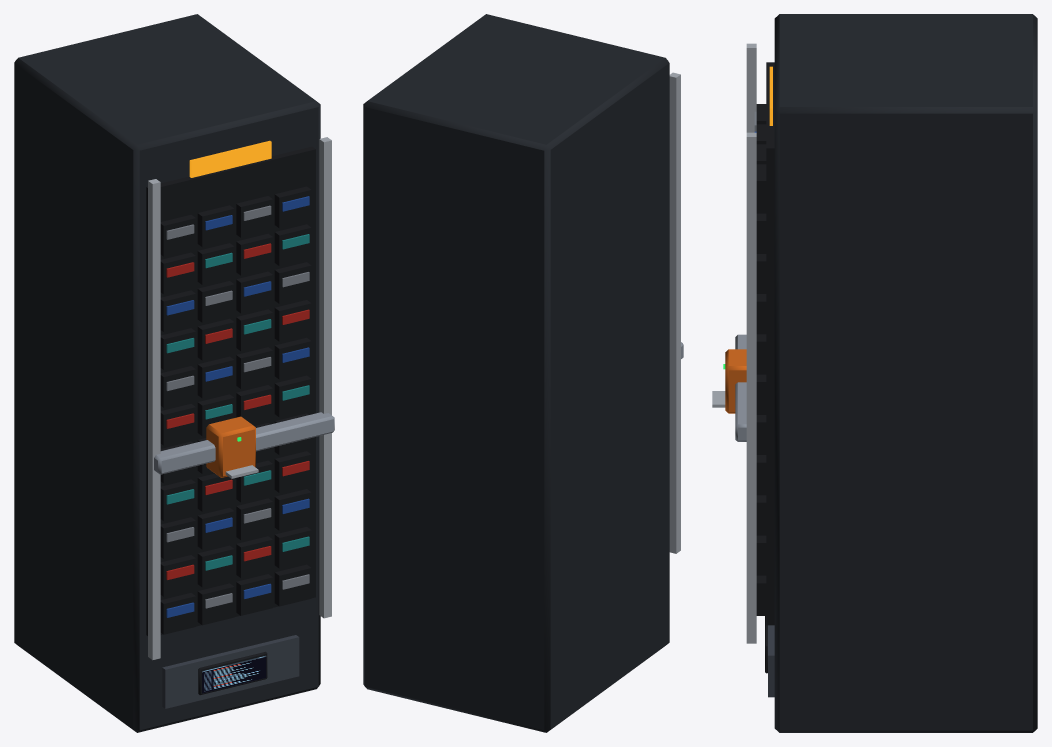
File: rack_tape_archive_tower.glb
3 views of the same model, side by side, from view 1: azimuth 30°, elevation 25°; view 2: azimuth 150°, elevation 25°; view 3: azimuth 270°, elevation 25° (orthographic). The views are drawn at different scales.
Parts seen in each view (by area): view 1: rack_tape_archive_tower; view 2: rack_tape_archive_tower; view 3: rack_tape_archive_tower.
Part boxes in pixels (x1,y1,x2,y2): rack_tape_archive_tower: (14,14,334,732); rack_tape_archive_tower: (363,14,683,732); rack_tape_archive_tower: (712,14,1037,732).
Bounding box in the file's own units: 0.7 × 2.1 × 0.99.
Materials: 13 (1 with a texture image).
